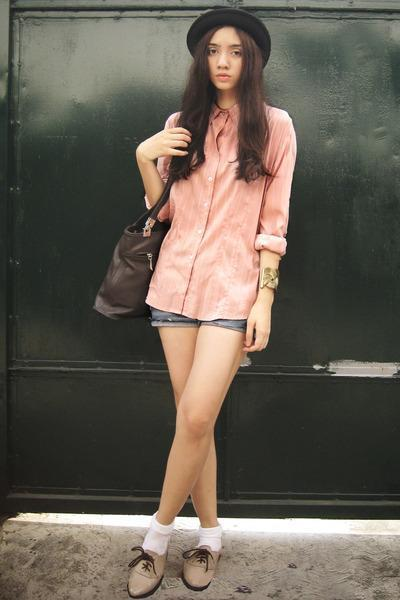bag: (93, 167, 186, 334)
hat: (187, 0, 270, 50)
shirt: (145, 106, 296, 320)
shoe: (128, 545, 232, 594)
shorts: (151, 309, 247, 336)
